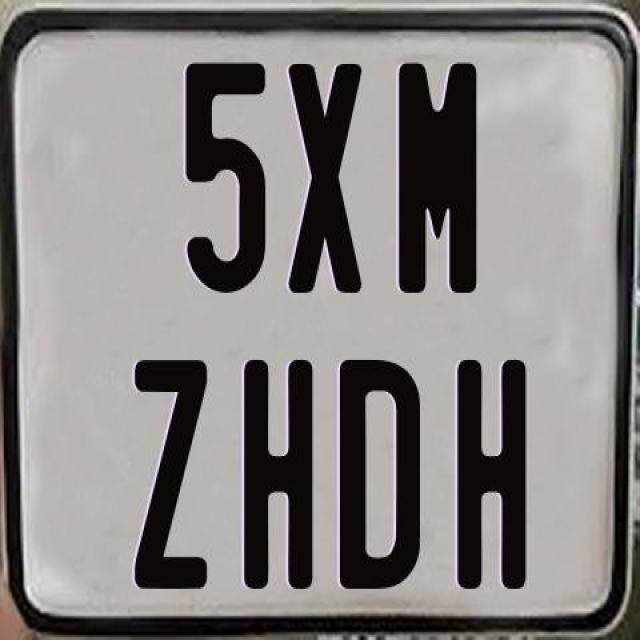5: (182, 58, 266, 288)
D: (338, 360, 424, 597)
H: (242, 355, 314, 584), (454, 357, 524, 587)
M: (398, 59, 482, 296)
X: (288, 61, 367, 293)
Z: (132, 355, 207, 584)
